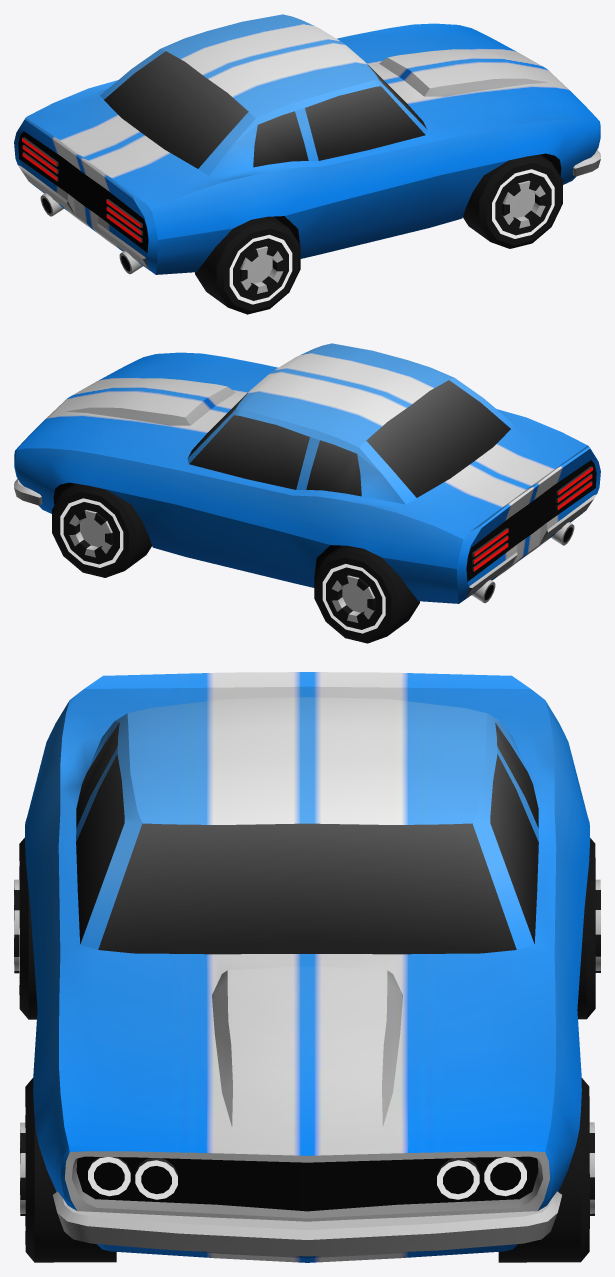
Rendered from Car_252.glb.
The picture shows the model from 3 angles, top to bottom: view 1: azimuth 30°, elevation 25°; view 2: azimuth 150°, elevation 25°; view 3: azimuth 270°, elevation 25°; orthographic projection. The views are drawn at different scales.
Parts seen in each view (by area): view 1: Car_252, wheel_3_Car_252_Wheel_2R, wheel_1_Car_252_Wheel_1R; view 2: Car_252, wheel_2_Car_252_Wheel_2L, wheel_0_Car_252_Wheel_1L; view 3: Car_252, wheel_0_Car_252_Wheel_1L, wheel_1_Car_252_Wheel_1R, wheel_3_Car_252_Wheel_2R, wheel_2_Car_252_Wheel_2L.
Part boxes in pixels (x1=…): Car_252: x1=14, y1=14, x2=600, y2=274; wheel_3_Car_252_Wheel_2R: x1=195, y1=216, x2=300, y2=314; wheel_1_Car_252_Wheel_1R: x1=463, y1=154, x2=562, y2=248; Car_252: x1=14, y1=343, x2=600, y2=603; wheel_2_Car_252_Wheel_2L: x1=314, y1=545, x2=419, y2=643; wheel_0_Car_252_Wheel_1L: x1=52, y1=483, x2=151, y2=577; Car_252: x1=24, y1=672, x2=590, y2=1262; wheel_0_Car_252_Wheel_1L: x1=498, y1=1078, x2=594, y2=1262; wheel_1_Car_252_Wheel_1R: x1=20, y1=1078, x2=116, y2=1262; wheel_3_Car_252_Wheel_2R: x1=14, y1=837, x2=37, y2=1019; wheel_2_Car_252_Wheel_2L: x1=577, y1=838, x2=600, y2=1019.
Bounding box in the file's own units: 3.61 × 1.32 × 2.03.
Materials: 2 (2 with a texture image).
